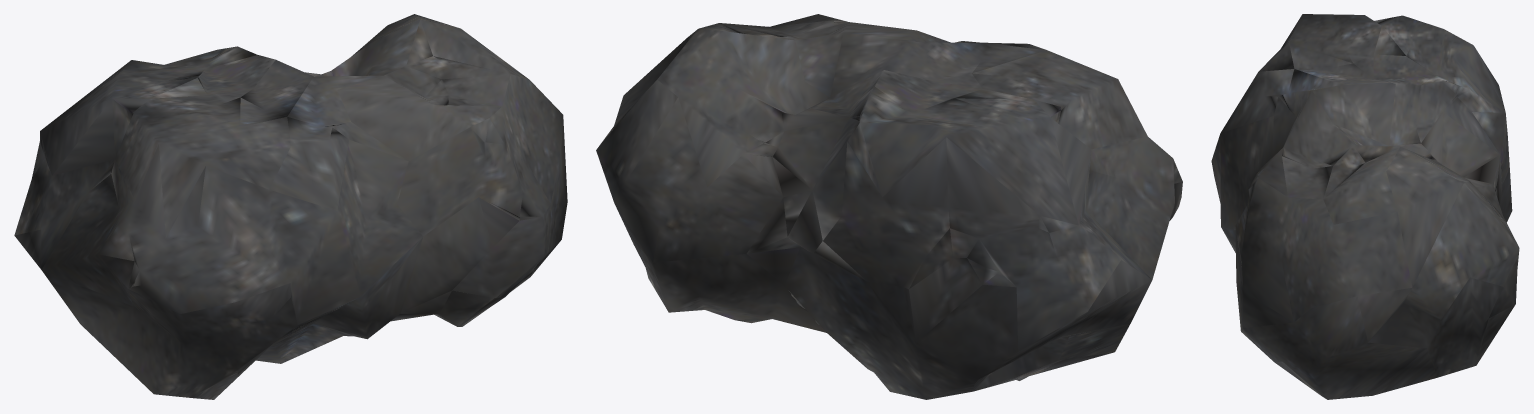
File: asteroid_02.fbx
3 renders of one model, left to right at view 1: azimuth 30°, elevation 25°; view 2: azimuth 150°, elevation 25°; view 3: azimuth 270°, elevation 25°, orthographic. The views are drawn at different scales.
Parts seen in each view (by area): view 1: Asteroid_3_LOW_MODEL_; view 2: Asteroid_3_LOW_MODEL_; view 3: Asteroid_3_LOW_MODEL_.
Part boxes in pixels (x1,y1,x2,y2): Asteroid_3_LOW_MODEL_: (14,14,567,399); Asteroid_3_LOW_MODEL_: (596,14,1182,399); Asteroid_3_LOW_MODEL_: (1211,14,1519,399).
Size of the model in its own units: 1378 by 796 by 765.
1 material, 1 textured.
